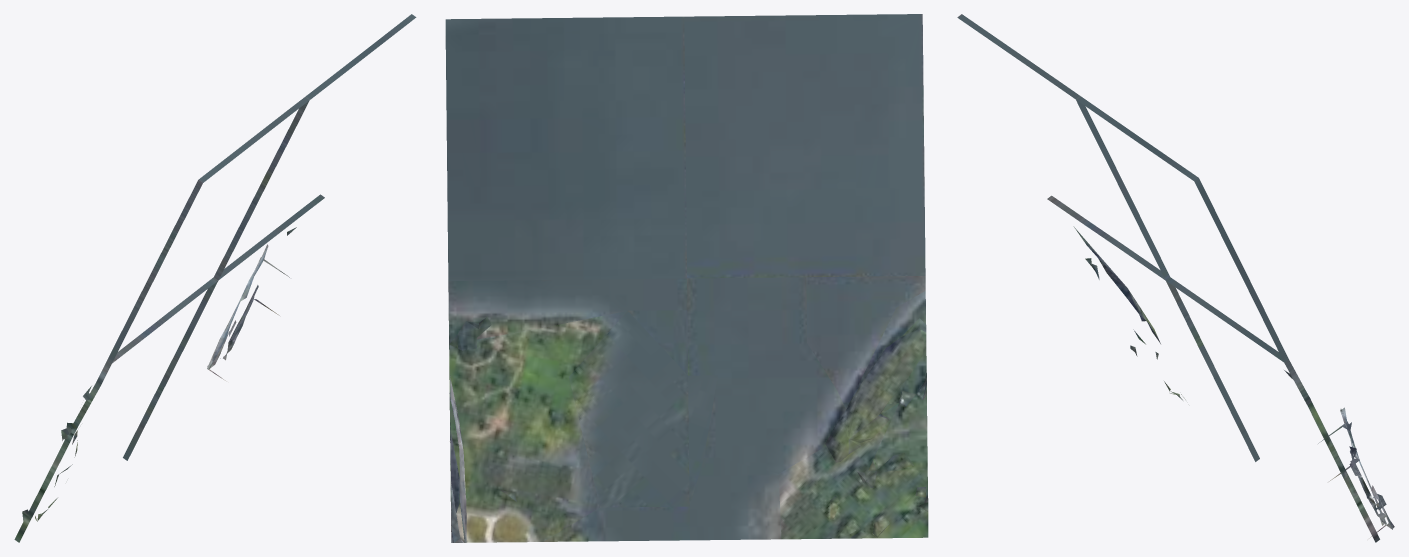
3 views of the same model, side by side, from view 1: azimuth 30°, elevation 25°; view 2: azimuth 150°, elevation 25°; view 3: azimuth 270°, elevation 25° (orthographic). The views are drawn at different scales.
Bounding box in the file's own units: 612 × 556 × 535.
Materials: 1 (1 with a texture image).
